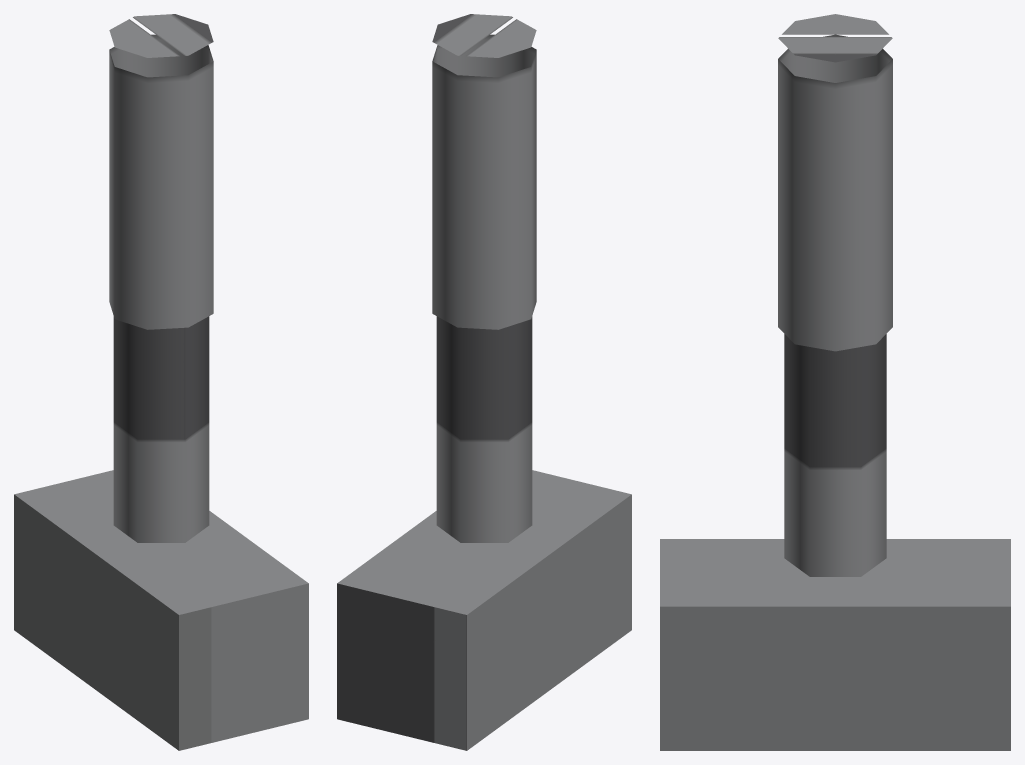
The picture shows the model from 3 angles, left to right: view 1: azimuth 30°, elevation 25°; view 2: azimuth 150°, elevation 25°; view 3: azimuth 270°, elevation 25°; orthographic projection. The views are drawn at different scales.
Size of the model in its own units: 0.023 by 0.1081 by 0.0506.
